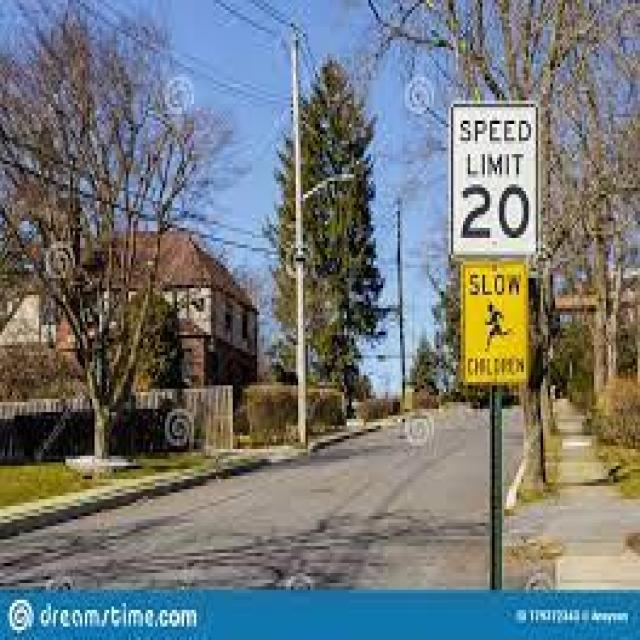speedLimit20: (450, 102, 542, 263)
